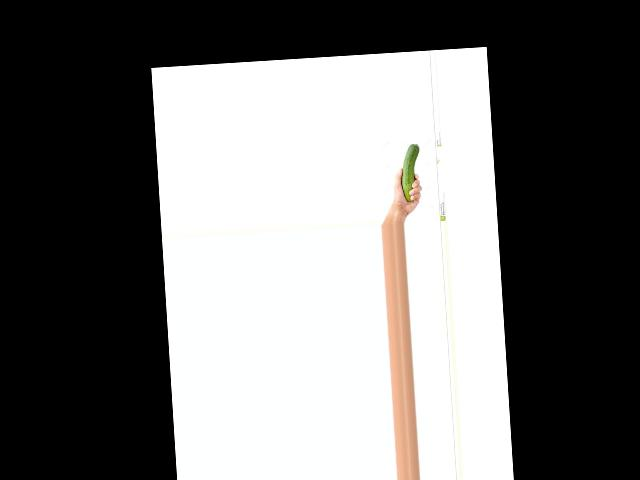cucumber: (400, 143, 422, 201)
